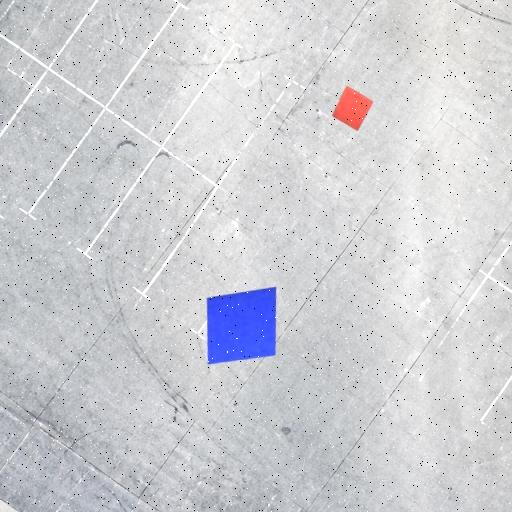BLUE_SQUARE: (206, 286, 277, 365)
RED_SQUARE: (332, 85, 374, 131)
